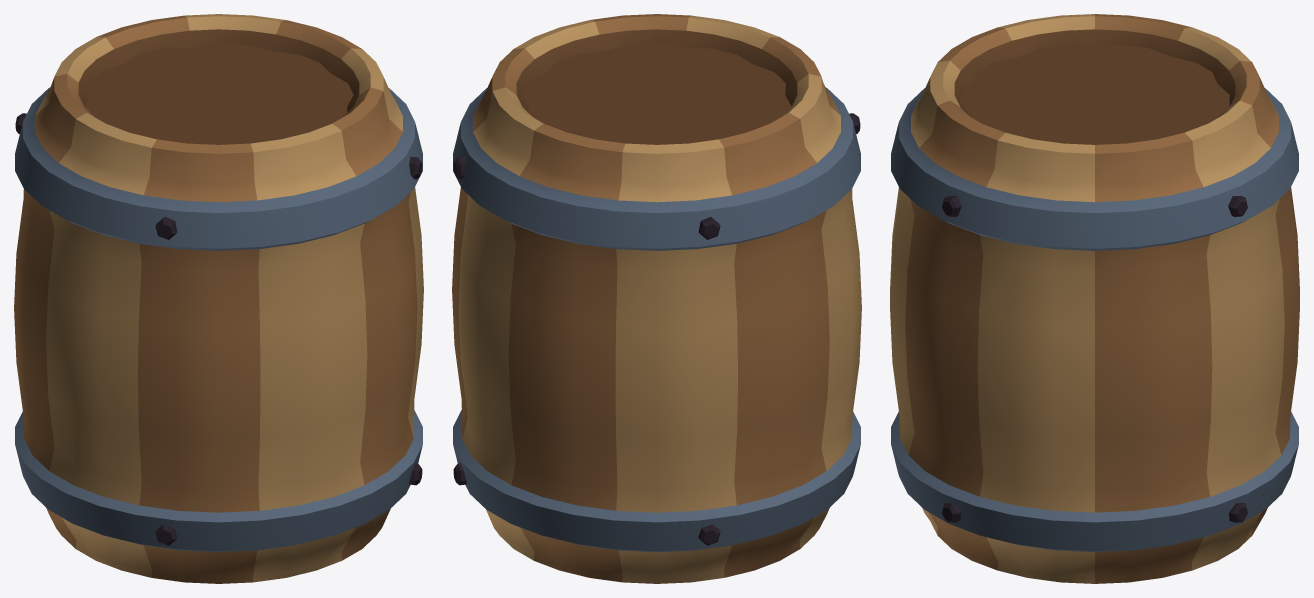
The model's file is Barrel_32.glb.
3 renders of one model, left to right at view 1: azimuth 30°, elevation 25°; view 2: azimuth 150°, elevation 25°; view 3: azimuth 270°, elevation 25°, orthographic.
Parts seen in each view (by area): view 1: Barrel_32; view 2: Barrel_32; view 3: Barrel_32.
Boxes of the visible parts, bbox=[...] form: Barrel_32: bbox=[14, 14, 423, 583]; Barrel_32: bbox=[452, 14, 861, 583]; Barrel_32: bbox=[890, 14, 1299, 583].
Size of the model in its own units: 2.19 by 2.58 by 2.19.
